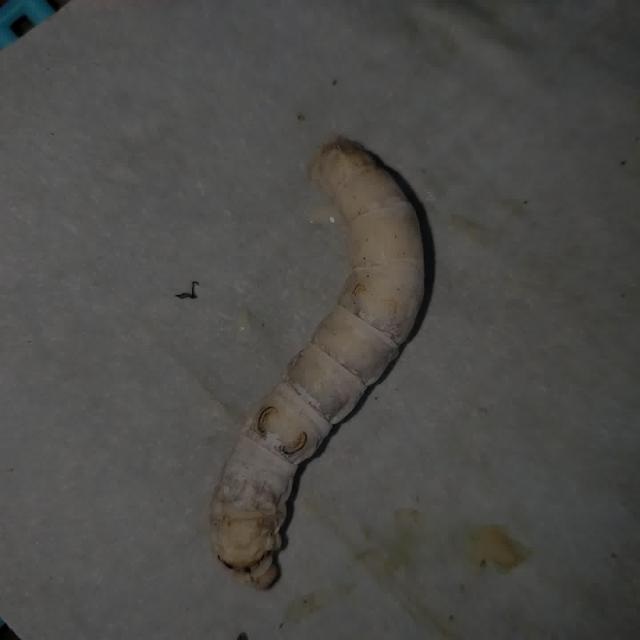Grasserie: (204, 128, 443, 600)
